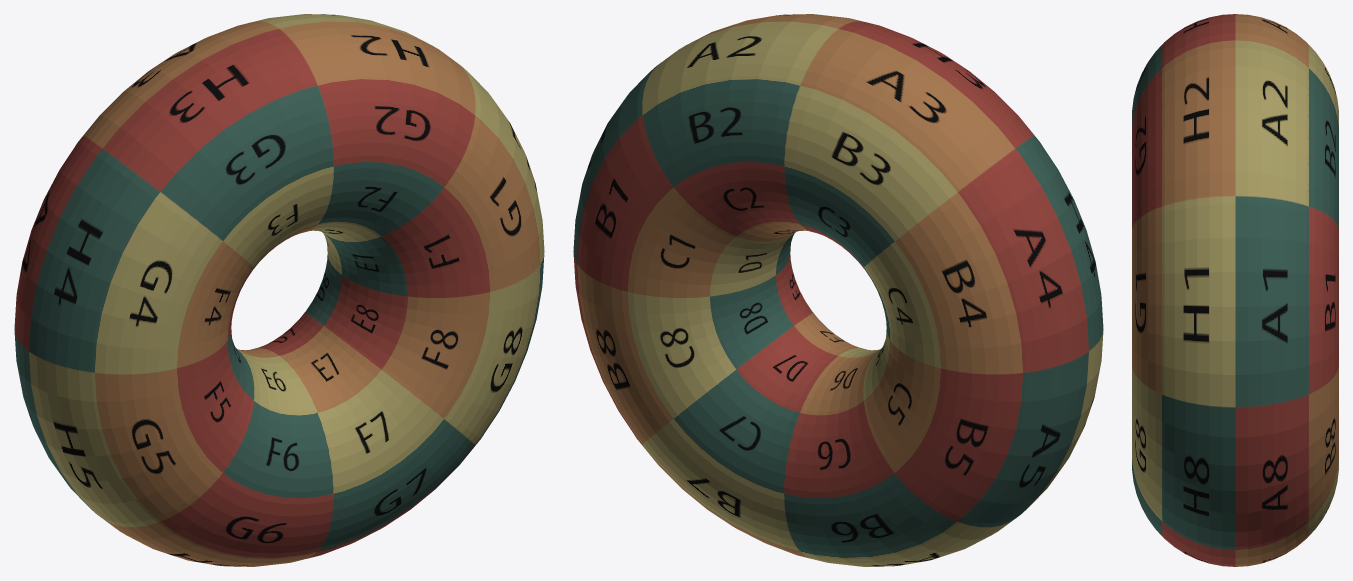
The model's file is texture_torus_R2_r18.glb.
3 views of the same model, side by side, from view 1: azimuth 30°, elevation 25°; view 2: azimuth 150°, elevation 25°; view 3: azimuth 270°, elevation 25° (orthographic). The views are drawn at different scales.
Visible parts, largest first — view 1: world; view 2: world; view 3: world.
Boxes of the visible parts, box(x1,y1,x2,y2) form: world: box(14, 14, 544, 566); world: box(573, 14, 1103, 566); world: box(1132, 14, 1338, 566).
Bounding box in the file's own units: 18.13 × 18.1 × 6.79.
1 material, 1 textured.
